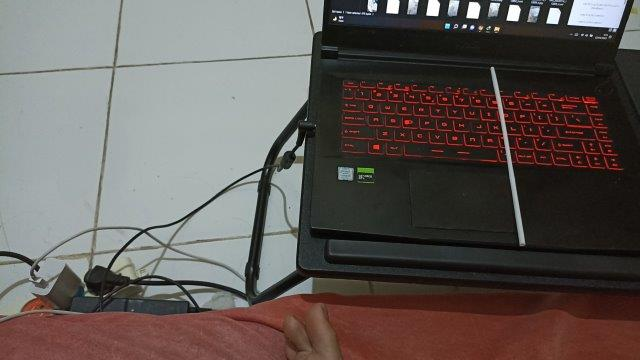sedotan: (491, 67, 525, 245)
